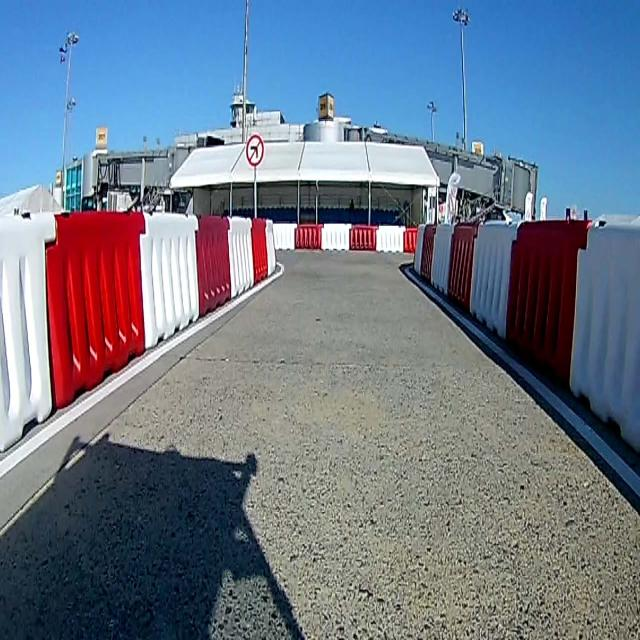soladonulmez: (246, 134, 264, 166)
